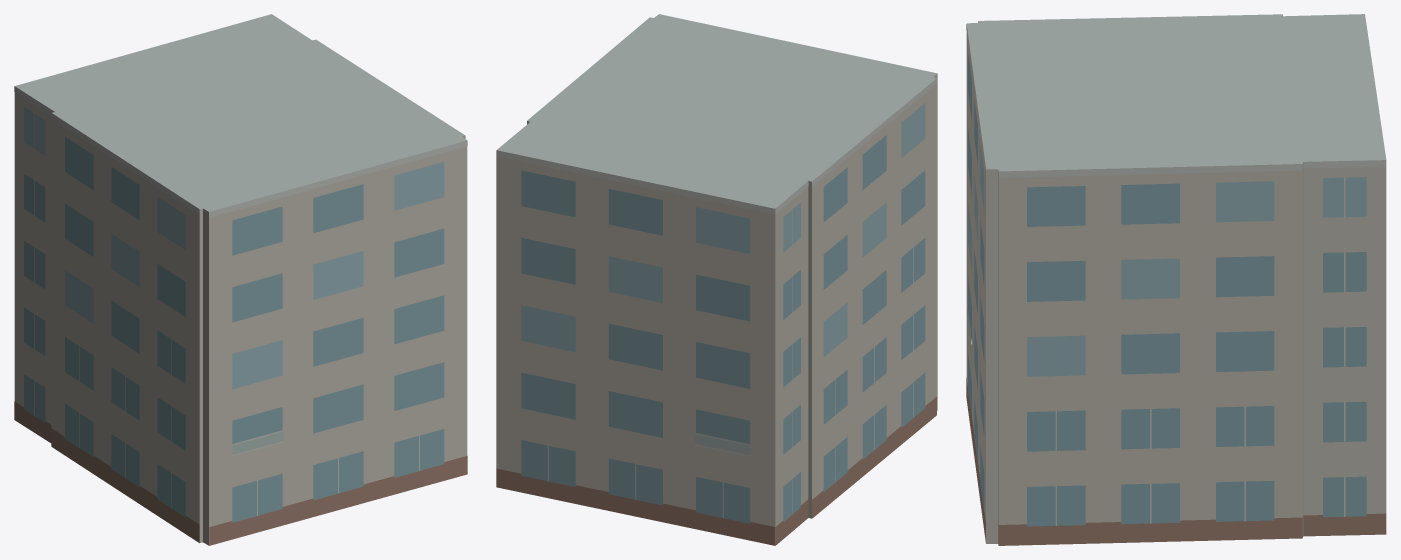
Rendered from survey-upis-32957012.glb.
3 renders of one model, left to right at view 1: azimuth 30°, elevation 25°; view 2: azimuth 150°, elevation 25°; view 3: azimuth 270°, elevation 25°, orthographic. The views are drawn at different scales.
Parts seen in each view (by area): view 1: survey-upis-32957012.tmp; view 2: survey-upis-32957012.tmp; view 3: survey-upis-32957012.tmp.
Part boxes in pixels (x1=…): survey-upis-32957012.tmp: x1=14, y1=14, x2=467, y2=545; survey-upis-32957012.tmp: x1=496, y1=14, x2=937, y2=545; survey-upis-32957012.tmp: x1=966, y1=14, x2=1386, y2=545.
Bounding box in the file's own units: 12.54 × 13.9 × 14.14.
